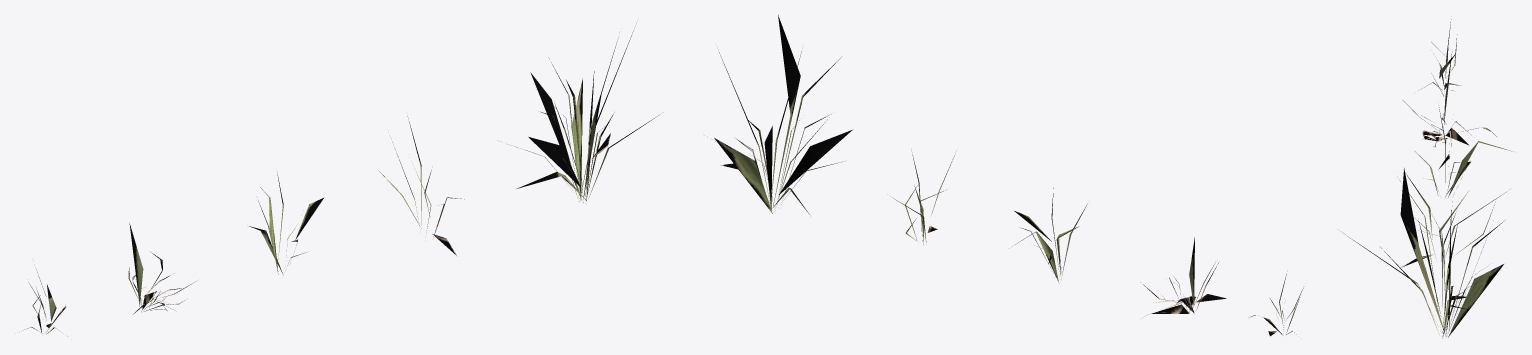
Rendered from grass_medium_02.glb.
The picture shows the model from 3 angles, left to right: view 1: azimuth 30°, elevation 25°; view 2: azimuth 150°, elevation 25°; view 3: azimuth 270°, elevation 25°; orthographic projection. The views are drawn at different scales.
Visible parts, largest first — view 1: grass_medium_02_a; view 2: grass_medium_02_a; view 3: grass_medium_02_a.
Boxes of the visible parts, x1,y1,x2,y2 form: grass_medium_02_a: [23, 26, 658, 334]; grass_medium_02_a: [714, 15, 1303, 336]; grass_medium_02_a: [1342, 19, 1511, 337].
Bounding box in the file's own units: 1.29 × 0.377 × 0.3494.
Materials: 1 (1 with a texture image).
